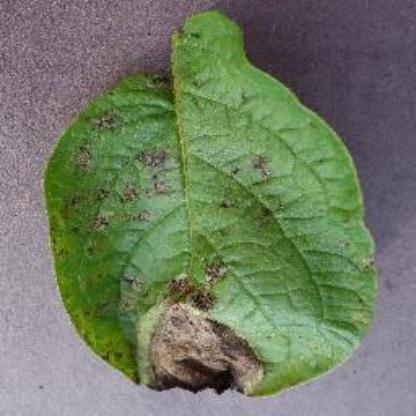Late-Blight: (29, 44, 397, 402)
